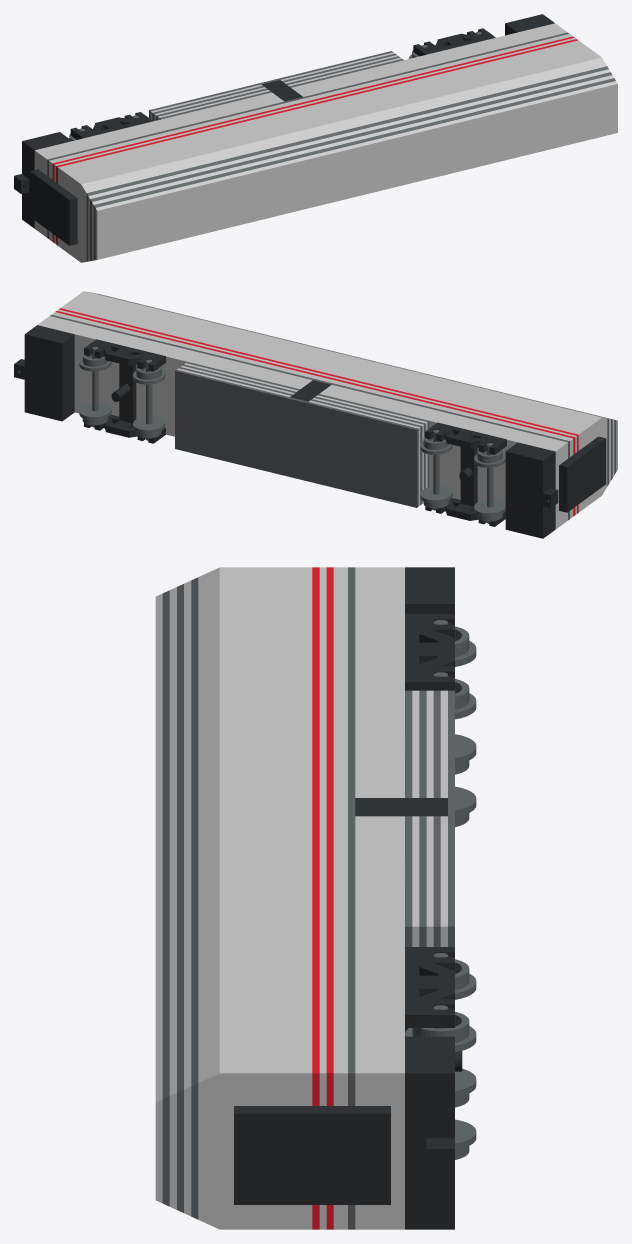
Rendered from tinker.obj.
3 views of the same model, one above another, from view 1: azimuth 30°, elevation 25°; view 2: azimuth 150°, elevation 25°; view 3: azimuth 270°, elevation 25° (orthographic). The views are drawn at different scales.
Parts seen in each view (by area): view 1: group_0_10988977, group_0_12568524, group_0_6383466, group_0_2829873, group_0_40919, group_0_15277357, group_0_3888547, group_0_16448250; view 2: group_0_6383466, group_0_12568524, group_0_2829873, group_0_40919, group_0_15277357, group_0_3888547, group_0_16448250, group_0_10988977; view 3: group_0_12568524, group_0_2829873, group_0_6383466, group_0_40919, group_0_10988977, group_0_15277357, group_0_3888547, group_0_16448250.
Boxes of the visible parts, x1=… form: group_0_10988977: x1=88, y1=69, x2=617, y2=261; group_0_12568524: x1=34, y1=23, x2=606, y2=262; group_0_6383466: x1=47, y1=31, x2=615, y2=261; group_0_2829873: x1=14, y1=14, x2=554, y2=245; group_0_40919: x1=79, y1=55, x2=558, y2=176; group_0_15277357: x1=52, y1=36, x2=577, y2=245; group_0_3888547: x1=50, y1=35, x2=572, y2=241; group_0_16448250: x1=54, y1=38, x2=576, y2=243; group_0_6383466: x1=50, y1=292, x2=616, y2=523; group_0_12568524: x1=37, y1=291, x2=607, y2=529; group_0_2829873: x1=14, y1=325, x2=606, y2=538; group_0_40919: x1=105, y1=304, x2=582, y2=425; group_0_15277357: x1=55, y1=308, x2=578, y2=516; group_0_3888547: x1=54, y1=312, x2=573, y2=517; group_0_16448250: x1=57, y1=309, x2=576, y2=514; group_0_10988977: x1=96, y1=293, x2=617, y2=483; group_0_12568524: x1=198, y1=567, x2=447, y2=1229; group_0_2829873: x1=234, y1=567, x2=462, y2=1229; group_0_6383466: x1=162, y1=567, x2=476, y2=1229; group_0_40919: x1=241, y1=580, x2=404, y2=1036; group_0_10988977: x1=155, y1=580, x2=191, y2=1216; group_0_15277357: x1=312, y1=567, x2=333, y2=1229; group_0_3888547: x1=333, y1=567, x2=340, y2=1229; group_0_16448250: x1=319, y1=567, x2=326, y2=1229.
Bounding box in the file's own units: 201 × 28.01 × 51.93.
